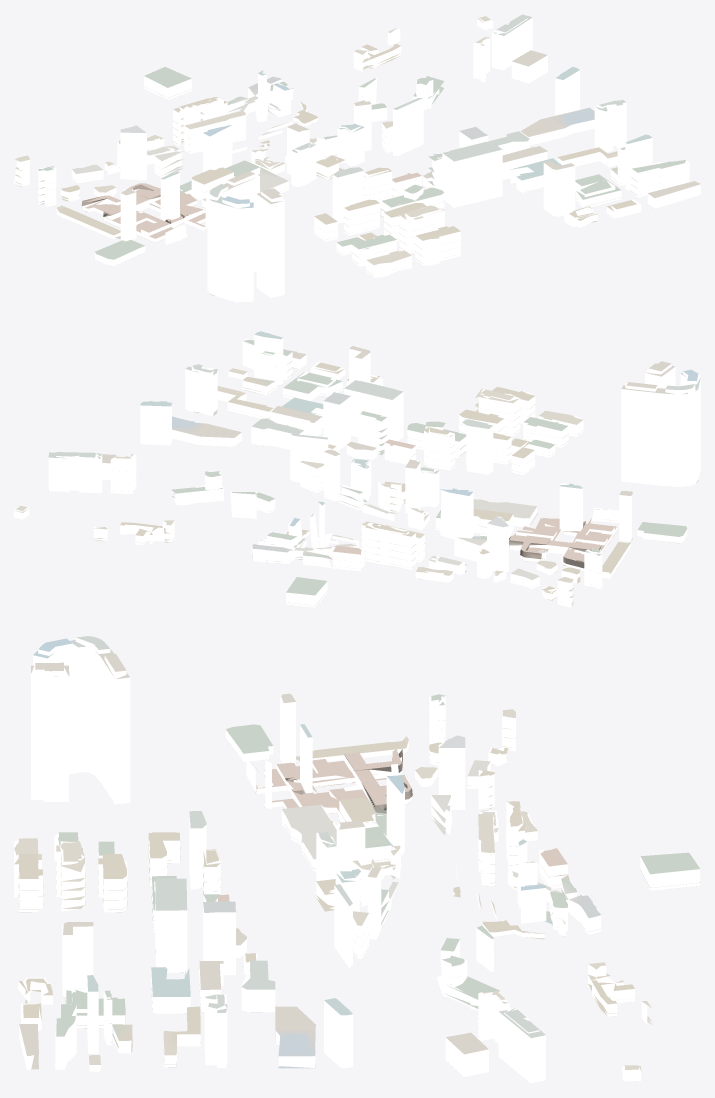
File: buildings-6_3-coarse.glb
3 views of the same model, one above another, from view 1: azimuth 30°, elevation 25°; view 2: azimuth 150°, elevation 25°; view 3: azimuth 270°, elevation 25° (orthographic). The views are drawn at different scales.
Parts seen in each view (by area): view 1: block_6_3_office, block_6_3_residential, block_6_3_roof; view 2: block_6_3_office, block_6_3_residential, block_6_3_roof, block_6_3_concrete; view 3: block_6_3_office, block_6_3_roof, block_6_3_residential.
Part boxes in pixels (<box>): block_6_3_office: <box>120,17,700,302</box>; block_6_3_residential: <box>14,18,689,277</box>; block_6_3_roof: <box>15,14,700,302</box>; block_6_3_office: <box>48,335,700,572</box>; block_6_3_residential: <box>14,338,687,607</box>; block_6_3_roof: <box>15,331,700,606</box>; block_6_3_concrete: <box>509,521,601,568</box>; block_6_3_office: <box>19,636,546,1083</box>; block_6_3_roof: <box>14,636,700,1083</box>; block_6_3_residential: <box>14,695,700,1081</box>.
Bounding box in the file's own units: 659 × 116 × 543.
